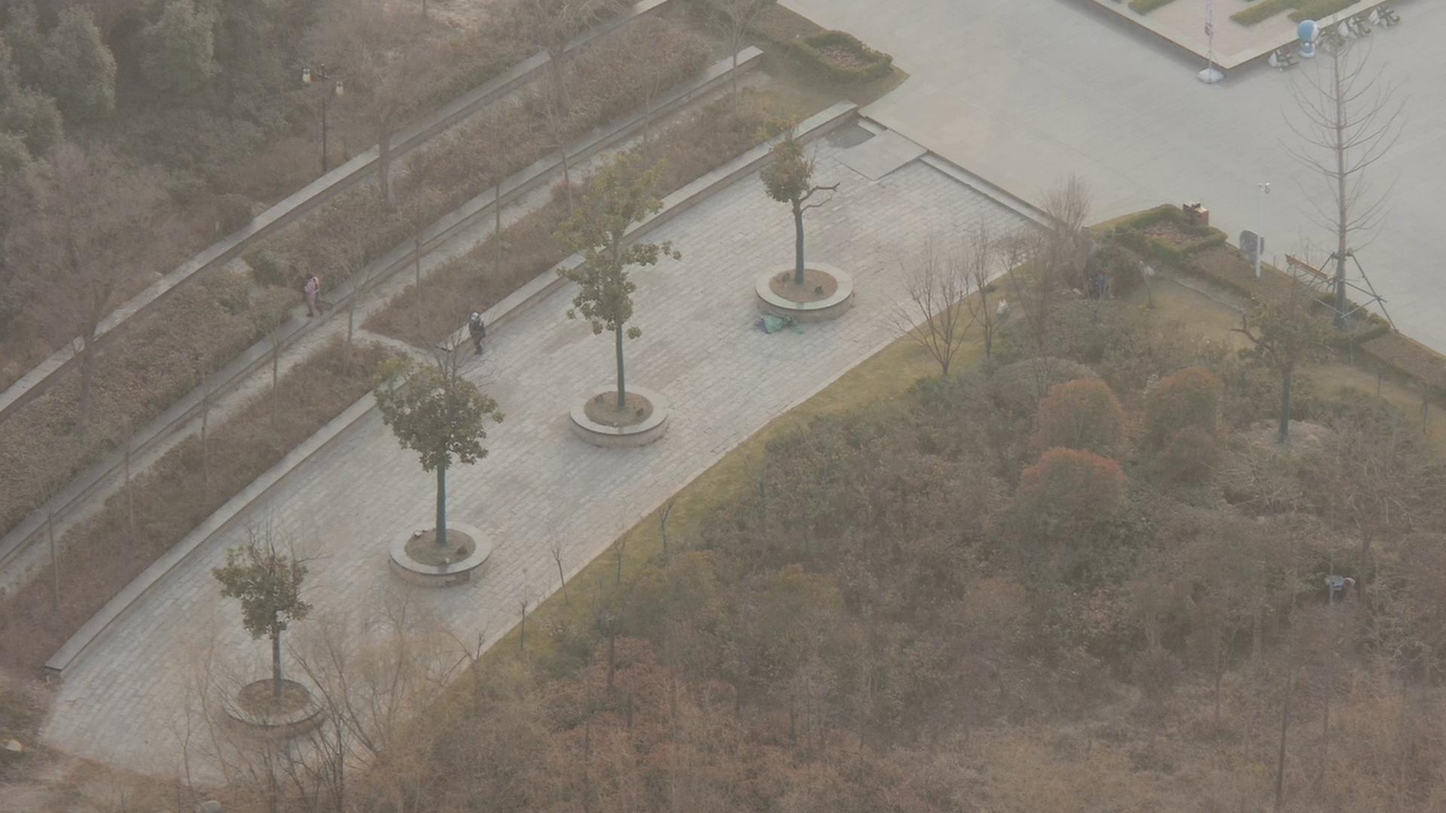human: (297, 242, 329, 296), (463, 293, 487, 345)
